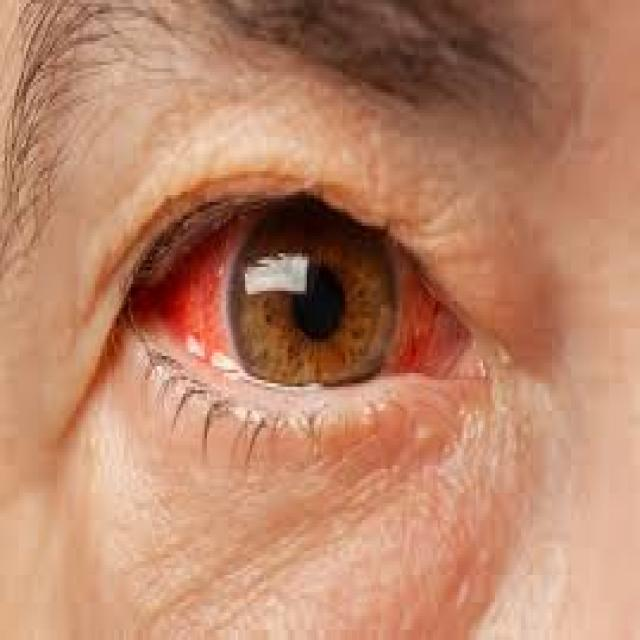Eyes-iris: (230, 180, 402, 401)
